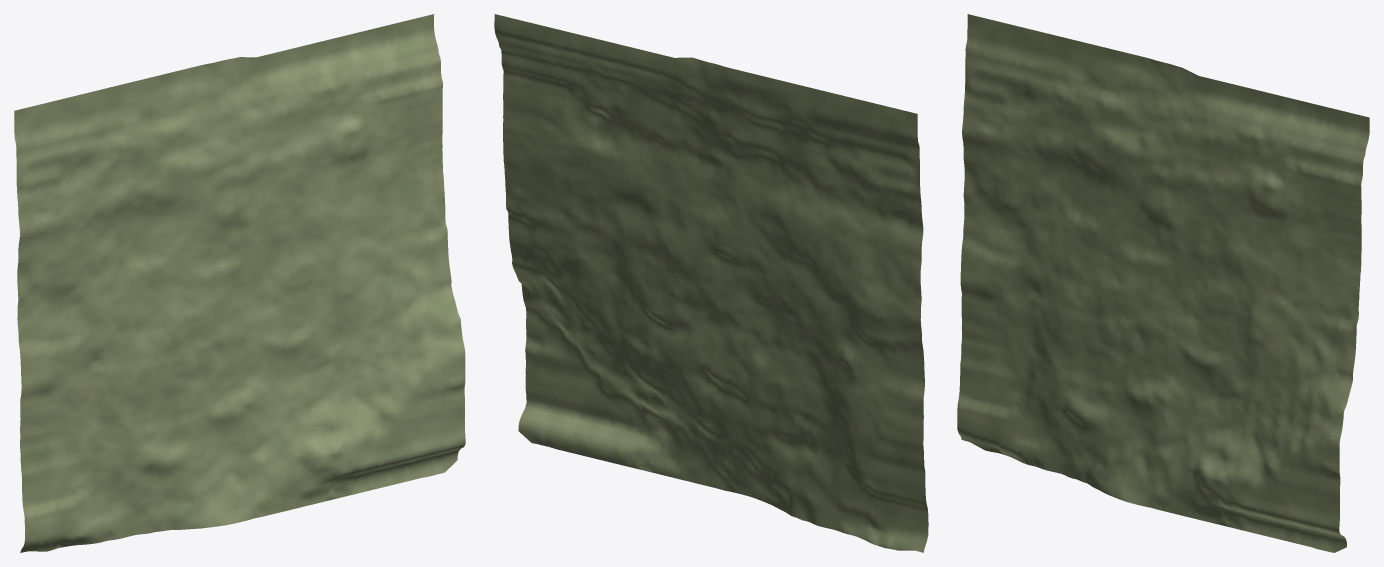
The model's file is dtm.glb.
3 renders of one model, left to right at view 1: azimuth 30°, elevation 25°; view 2: azimuth 150°, elevation 25°; view 3: azimuth 330°, elevation 25°, orthographic. The views are drawn at different scales.
Size of the model in its own units: 21.2 by 21.4 by 2.92.
